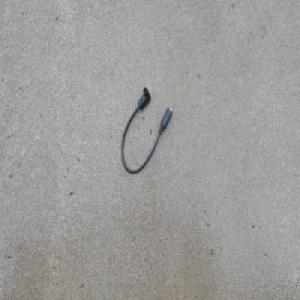Wire: (121, 86, 173, 175)
